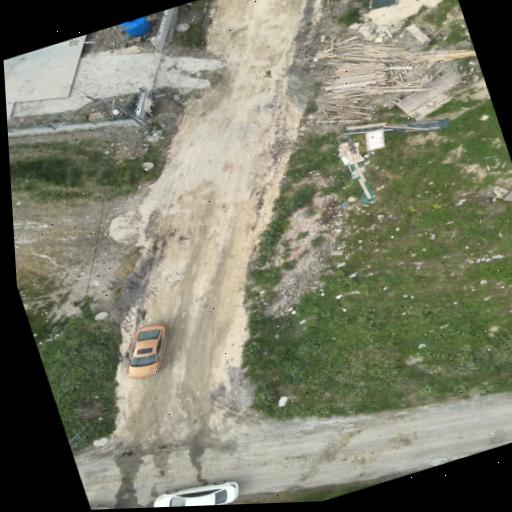car: (154, 481, 239, 506), (128, 325, 167, 378), (90, 505, 109, 509)
